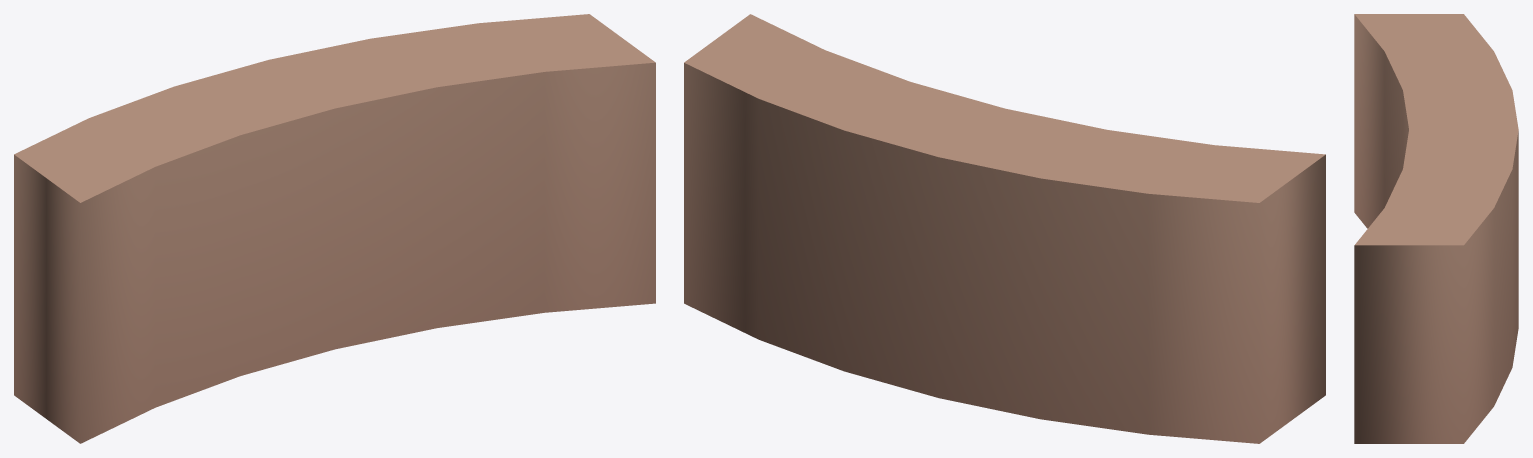
File: plank-curved.glb
3 renders of one model, left to right at view 1: azimuth 30°, elevation 25°; view 2: azimuth 150°, elevation 25°; view 3: azimuth 270°, elevation 25°, orthographic. The views are drawn at different scales.
Visible parts, largest first — view 1: plank-curved; view 2: plank-curved; view 3: plank-curved.
Part boxes in pixels (x1,y1,x2,y2): plank-curved: (14, 14, 655, 443); plank-curved: (684, 14, 1325, 443); plank-curved: (1354, 14, 1518, 443).
Size of the model in its own units: 0.5 by 0.2 by 0.15.
